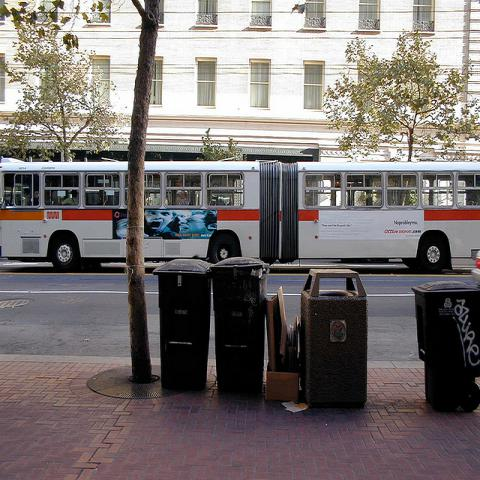bus: (0, 157, 280, 272), (279, 158, 479, 273)
car: (471, 247, 480, 283)
